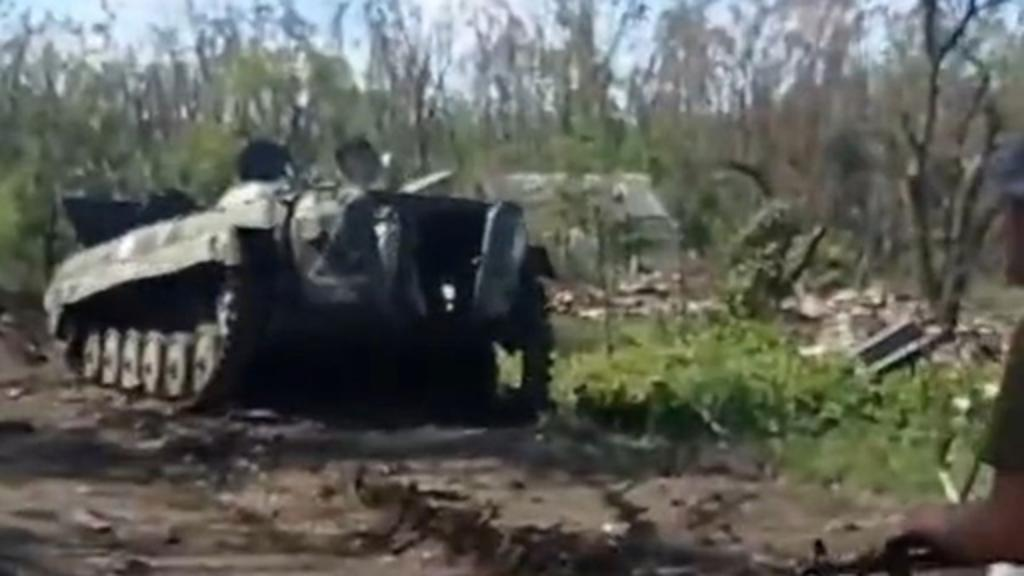APC-IFV: (36, 136, 556, 430)
